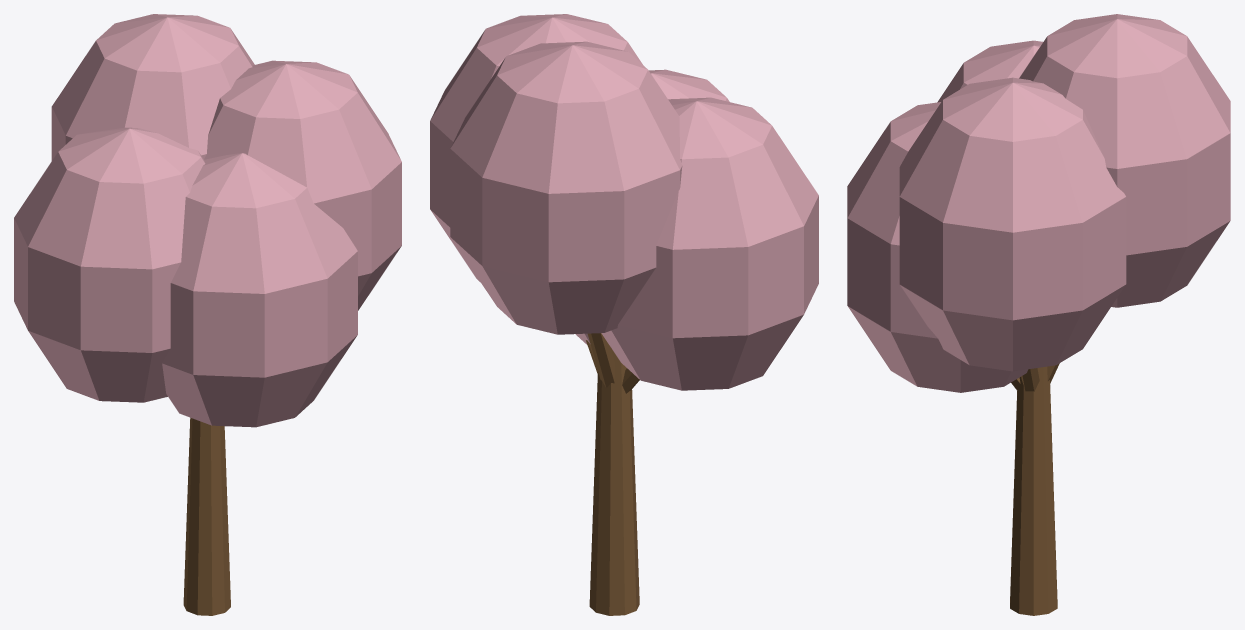
Rendered from PLAZA-022.glb.
The picture shows the model from 3 angles, left to right: view 1: azimuth 30°, elevation 25°; view 2: azimuth 150°, elevation 25°; view 3: azimuth 270°, elevation 25°; orthographic projection. The views are drawn at different scales.
Parts seen in each view (by area): view 1: PLAZA-022; view 2: PLAZA-022; view 3: PLAZA-022.
Boxes of the visible parts, left/top/right/bottom form: PLAZA-022: left=14, top=14, right=401, bottom=615; PLAZA-022: left=430, top=14, right=818, bottom=615; PLAZA-022: left=847, top=14, right=1230, bottom=615.
Size of the model in its own units: 2.03 by 3.1 by 1.84.
